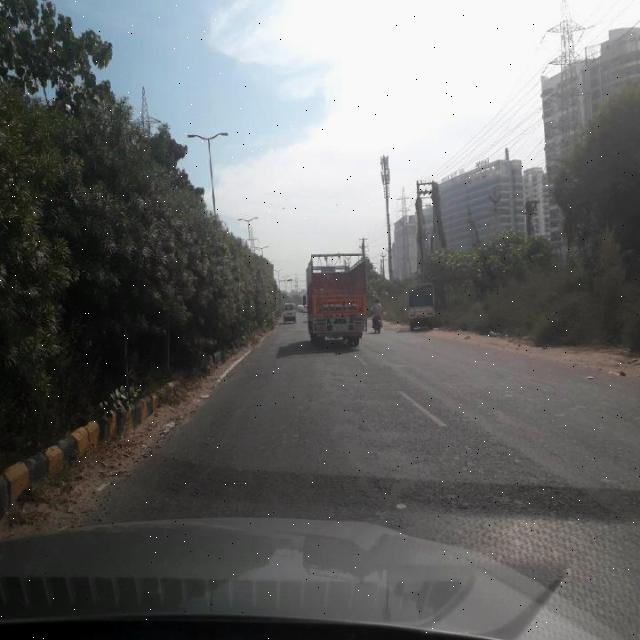D20: (150, 372, 631, 536)
